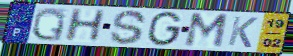G: (145, 10, 184, 47)
H: (61, 8, 108, 43)
K: (225, 15, 260, 49)
M: (182, 12, 230, 50)
Q: (30, 6, 68, 42)
S: (109, 9, 149, 46)
